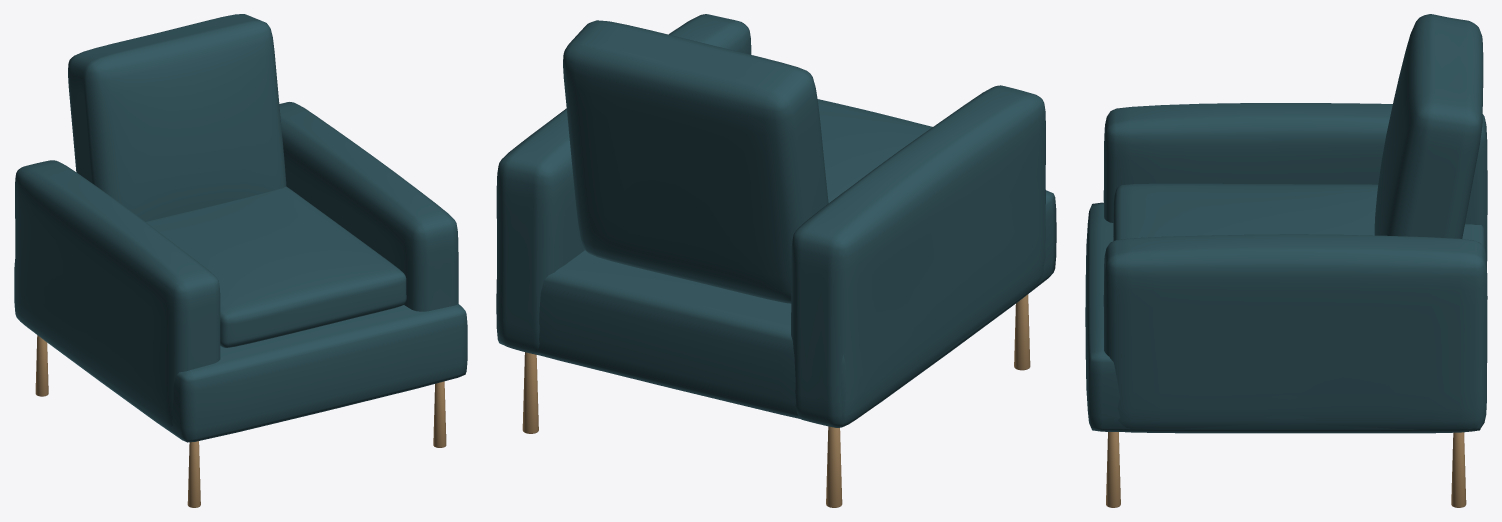
Rendered from sessel.glb.
3 renders of one model, left to right at view 1: azimuth 30°, elevation 25°; view 2: azimuth 150°, elevation 25°; view 3: azimuth 270°, elevation 25°, orthographic. The views are drawn at different scales.
Parts seen in each view (by area): view 1: Lehne, Armlehne-1, Korpus, Sitz, Armlehne1, Bein0, Bein1, Bein2; view 2: Lehne, Armlehne-1, Korpus, Armlehne1, Sitz, Bein3, Bein2, Bein0; view 3: Armlehne1, Armlehne-1, Lehne, Sitz, Korpus, Bein3, Bein1.
Part boxes in pixels (<box>): Lehne: <box>68,14,286,221</box>; Armlehne-1: <box>15,160,220,428</box>; Korpus: <box>14,259,467,442</box>; Sitz: <box>146,186,406,347</box>; Armlehne1: <box>279,102,458,311</box>; Bein0: <box>187,441,200,507</box>; Bein1: <box>433,381,446,447</box>; Bein2: <box>35,335,48,396</box>; Lehne: <box>563,20,828,303</box>; Armlehne-1: <box>791,85,1045,427</box>; Korpus: <box>496,190,1056,426</box>; Armlehne1: <box>496,14,751,354</box>; Sitz: <box>817,99,932,202</box>; Bein3: <box>522,352,538,433</box>; Bein2: <box>826,426,842,507</box>; Bein0: <box>1014,294,1030,370</box>; Armlehne1: <box>1103,234,1487,433</box>; Armlehne-1: <box>1103,103,1487,263</box>; Lehne: <box>1374,14,1483,238</box>; Sitz: <box>1113,183,1377,240</box>; Korpus: <box>1085,202,1485,432</box>; Bein3: <box>1451,432,1466,507</box>; Bein1: <box>1106,432,1120,507</box>.
Size of the model in its own units: 0.8012 by 0.8837 by 0.8503.
